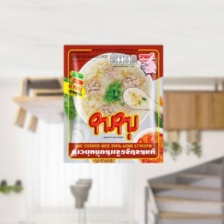snack: (53, 38, 170, 173)
